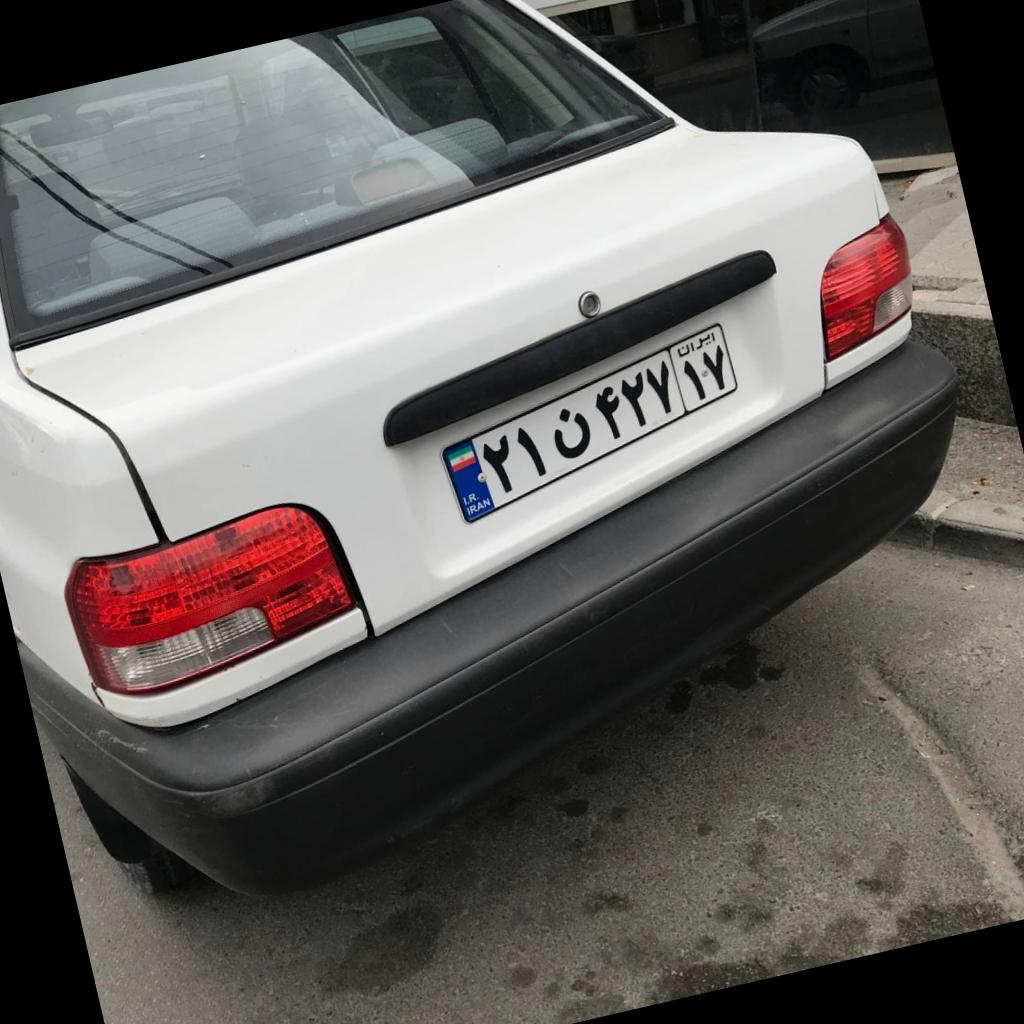Plates: (440, 324, 739, 524)
